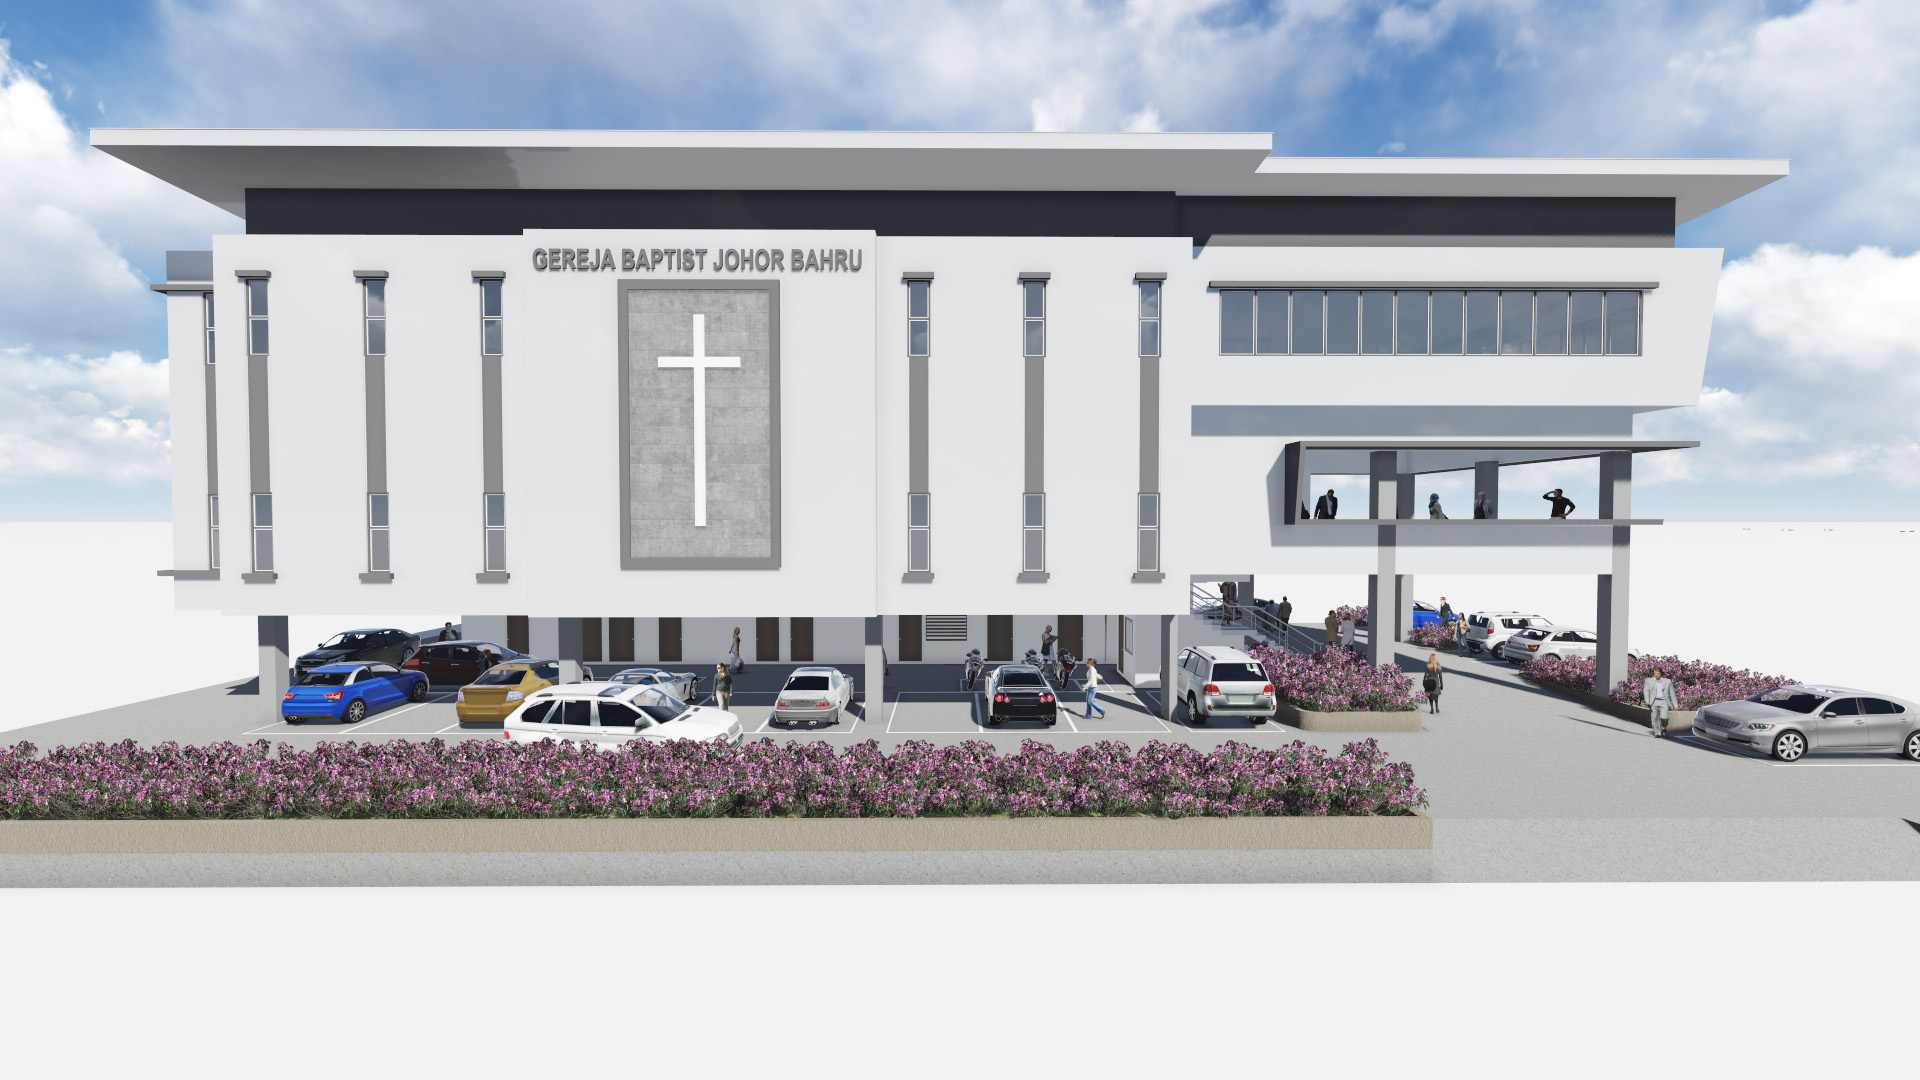Church: (78, 76, 1710, 823)
